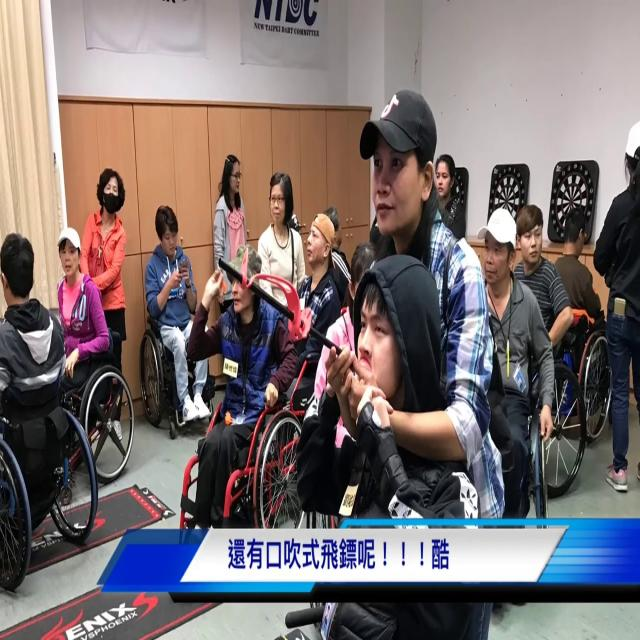wheelchairs: (0, 382, 98, 604), (474, 332, 586, 519), (168, 388, 314, 530), (61, 296, 140, 479), (136, 271, 218, 438)
